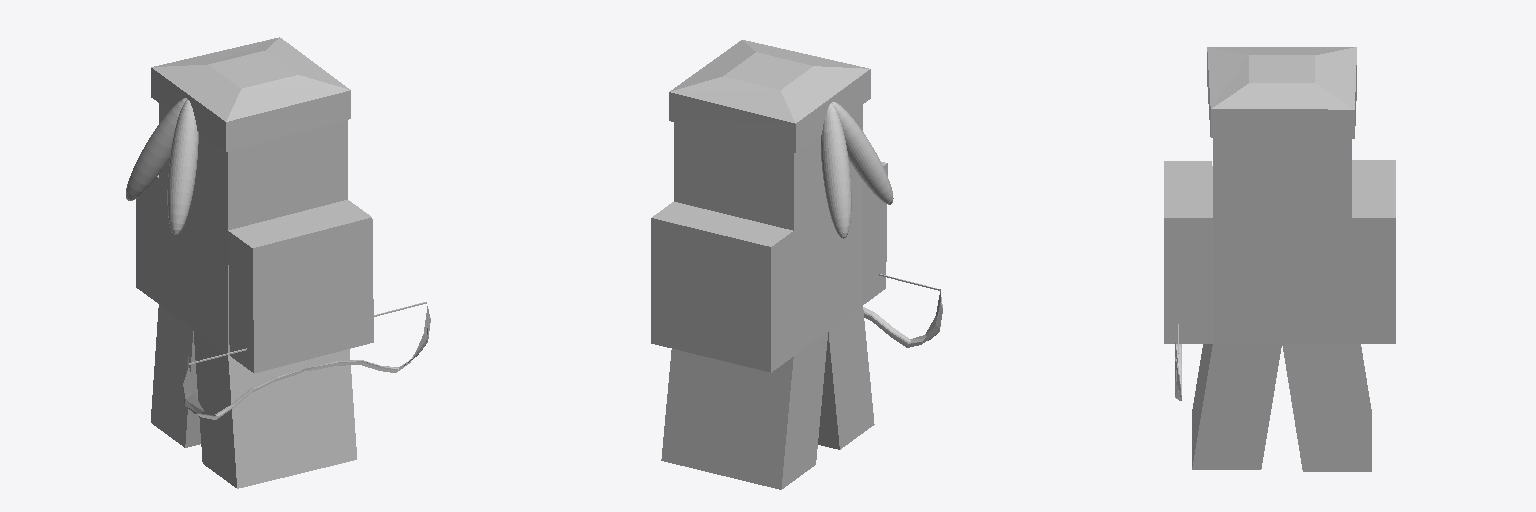
Rendered from archer_join.obj.
3 renders of one model, left to right at view 1: azimuth 30°, elevation 25°; view 2: azimuth 150°, elevation 25°; view 3: azimuth 270°, elevation 25°, orthographic.
Visible parts, largest first — view 1: Bow; view 2: Bow; view 3: Bow.
Part boxes in pixels (x1,y1,x2,y2): Bow: (126, 37, 430, 488); Bow: (651, 40, 942, 489); Bow: (1164, 47, 1395, 471).
Size of the model in its own units: 4.13 by 5.92 by 3.36.